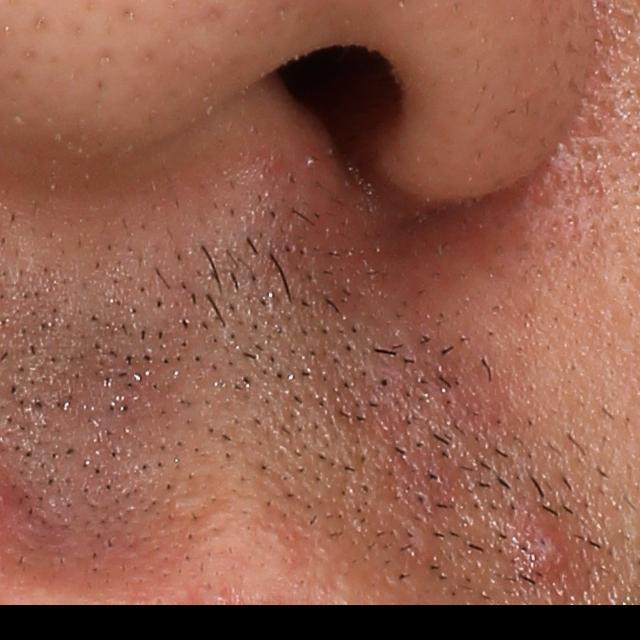papule: (514, 507, 584, 584)
